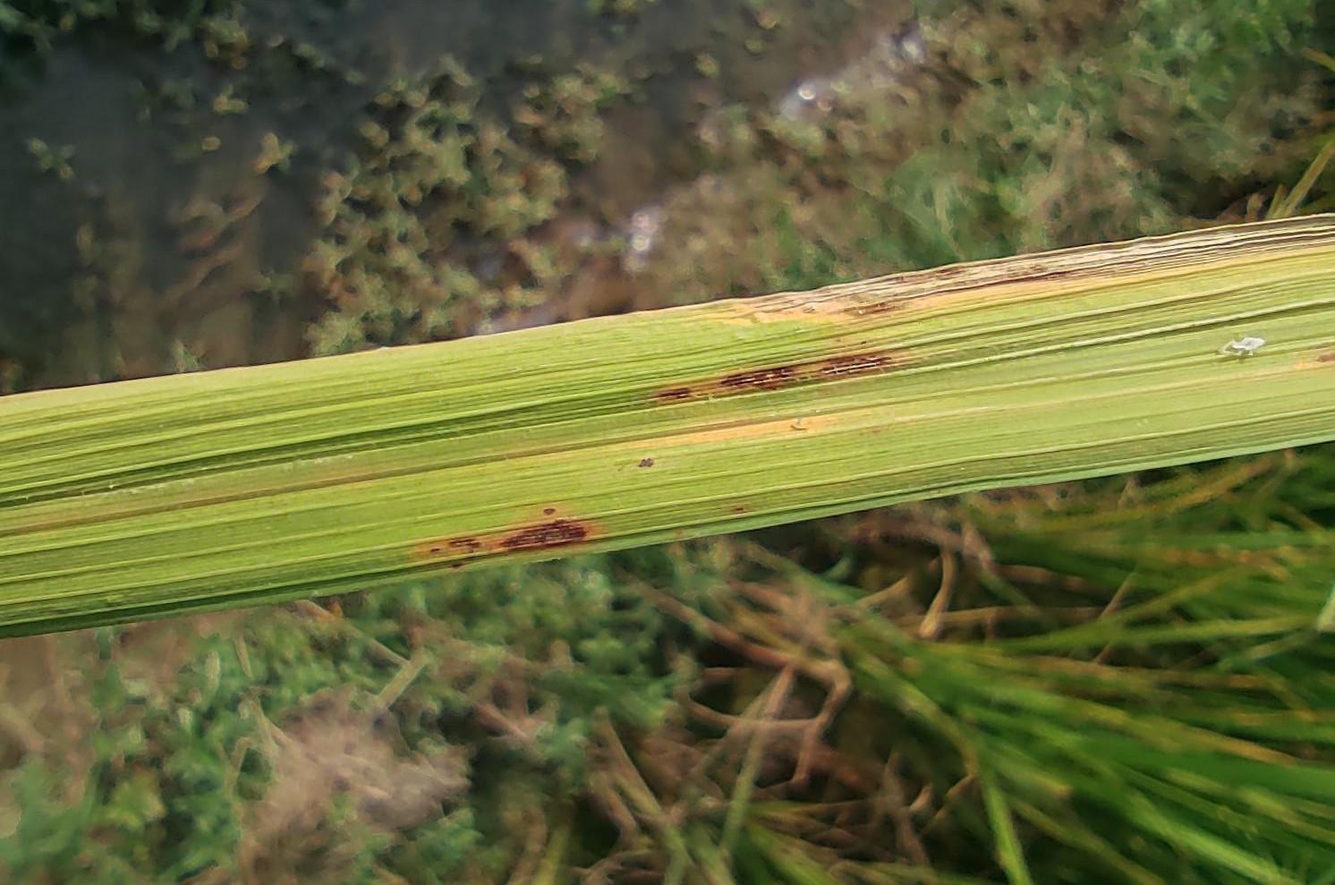LEAF BLAST: (501, 520, 588, 548), (721, 366, 809, 391), (818, 352, 896, 380), (448, 537, 483, 551)
